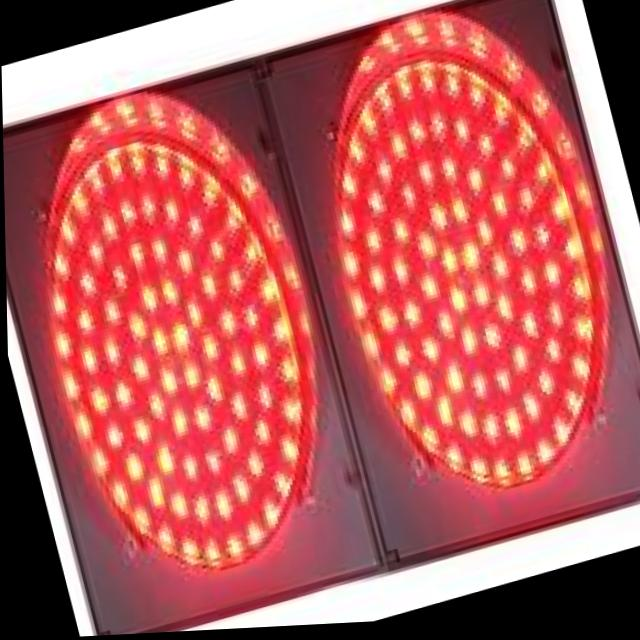red_light: (2, 76, 419, 635), (246, 21, 640, 508)
